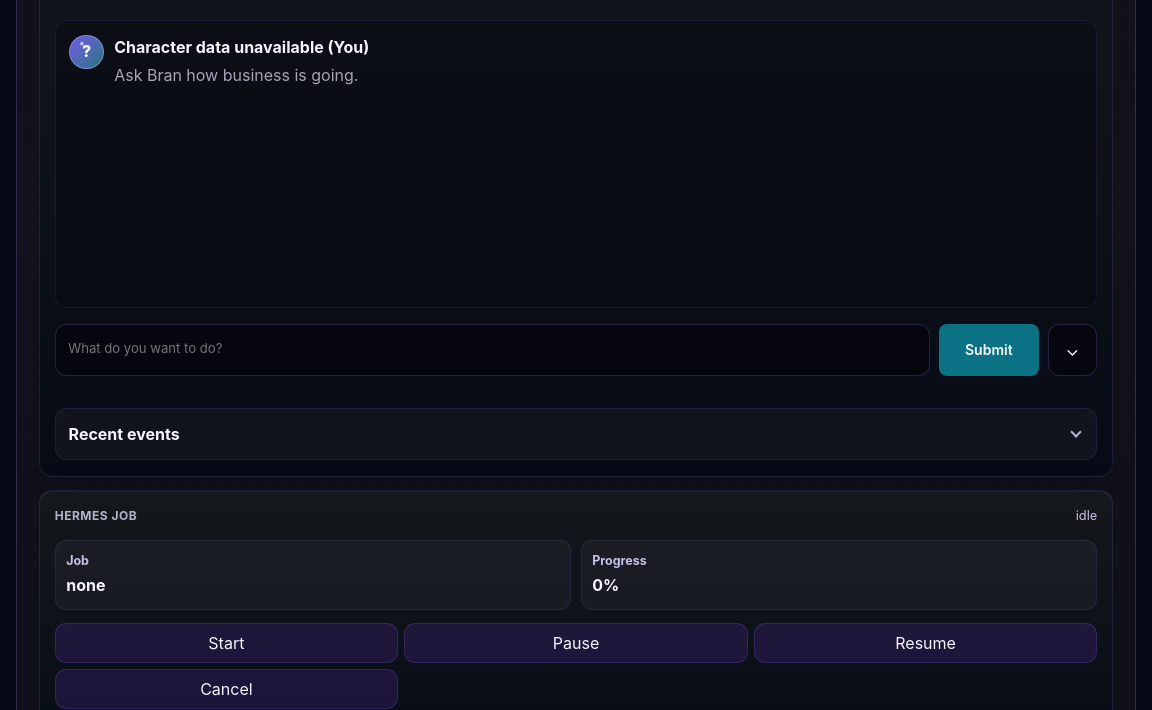
Test case: RpgWorkspace › recovers a timed out RPG turn queue request from the matching polled job
This screenshot has width=1152, height=710.
(page scrolled)
Expected: the dropdown named "Session" shows "rpg-session-1", 1048,324 -> 1097,376
Type "Ask Bran how business is going." into the text box named "Command" at (492,350), box 55,324 -> 930,376
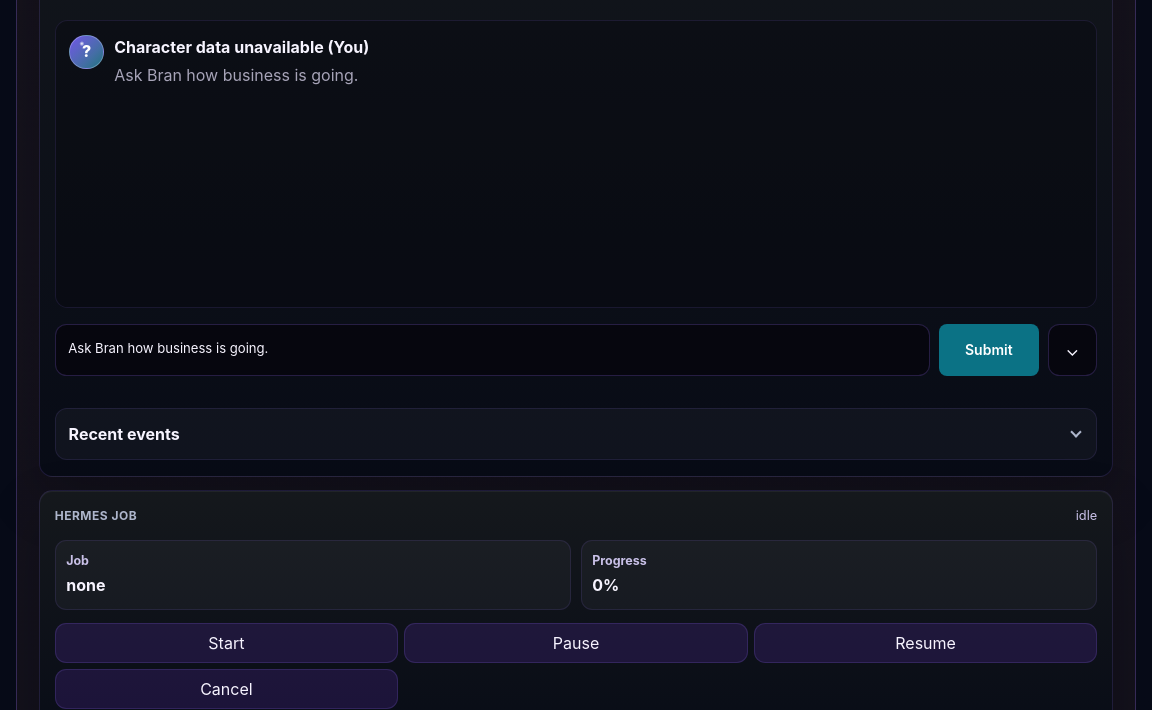
Click the button with aria-label "Queue RPG turn" at (989,350), box 939,324 -> 1039,376
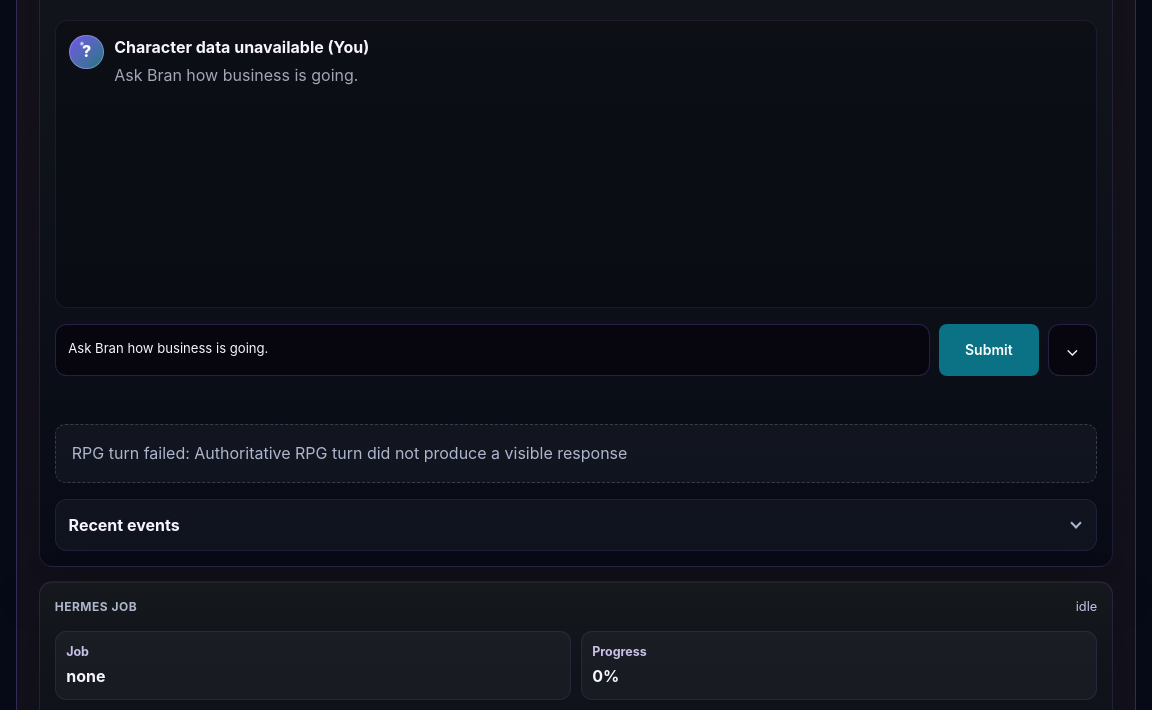
Expected: the message reads "RPG turn failed: Authoritative RPG turn did not produce a visible response", 72,443 -> 627,463
